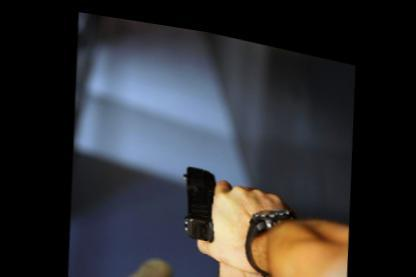pistol: (176, 156, 218, 236)
